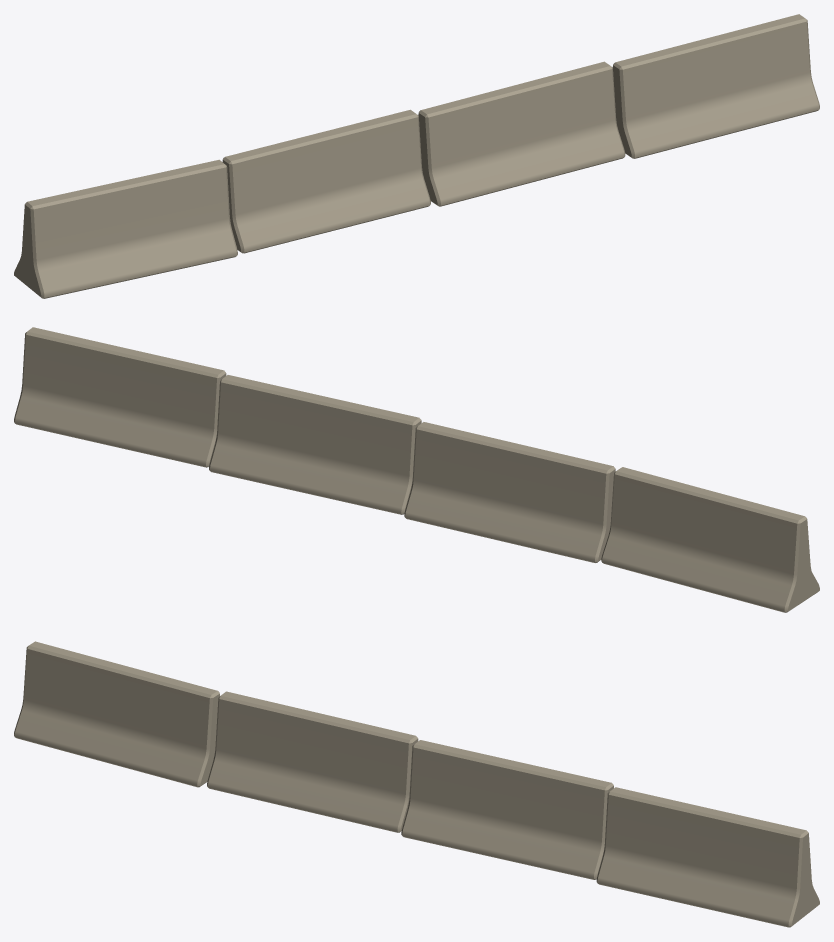
Rendered from concreteBarricade.glb.
The picture shows the model from 3 angles, top to bottom: view 1: azimuth 30°, elevation 25°; view 2: azimuth 150°, elevation 25°; view 3: azimuth 330°, elevation 25°; orthographic projection.
Parts seen in each view (by area): view 1: concreteBarricade; view 2: concreteBarricade; view 3: concreteBarricade.
Part boxes in pixels (x1,y1,x2,y2): concreteBarricade: (14, 14, 819, 298); concreteBarricade: (14, 327, 819, 612); concreteBarricade: (14, 641, 819, 927).
Size of what is drawn, in the model's own units: 21.67 by 2.23 by 1.79.
